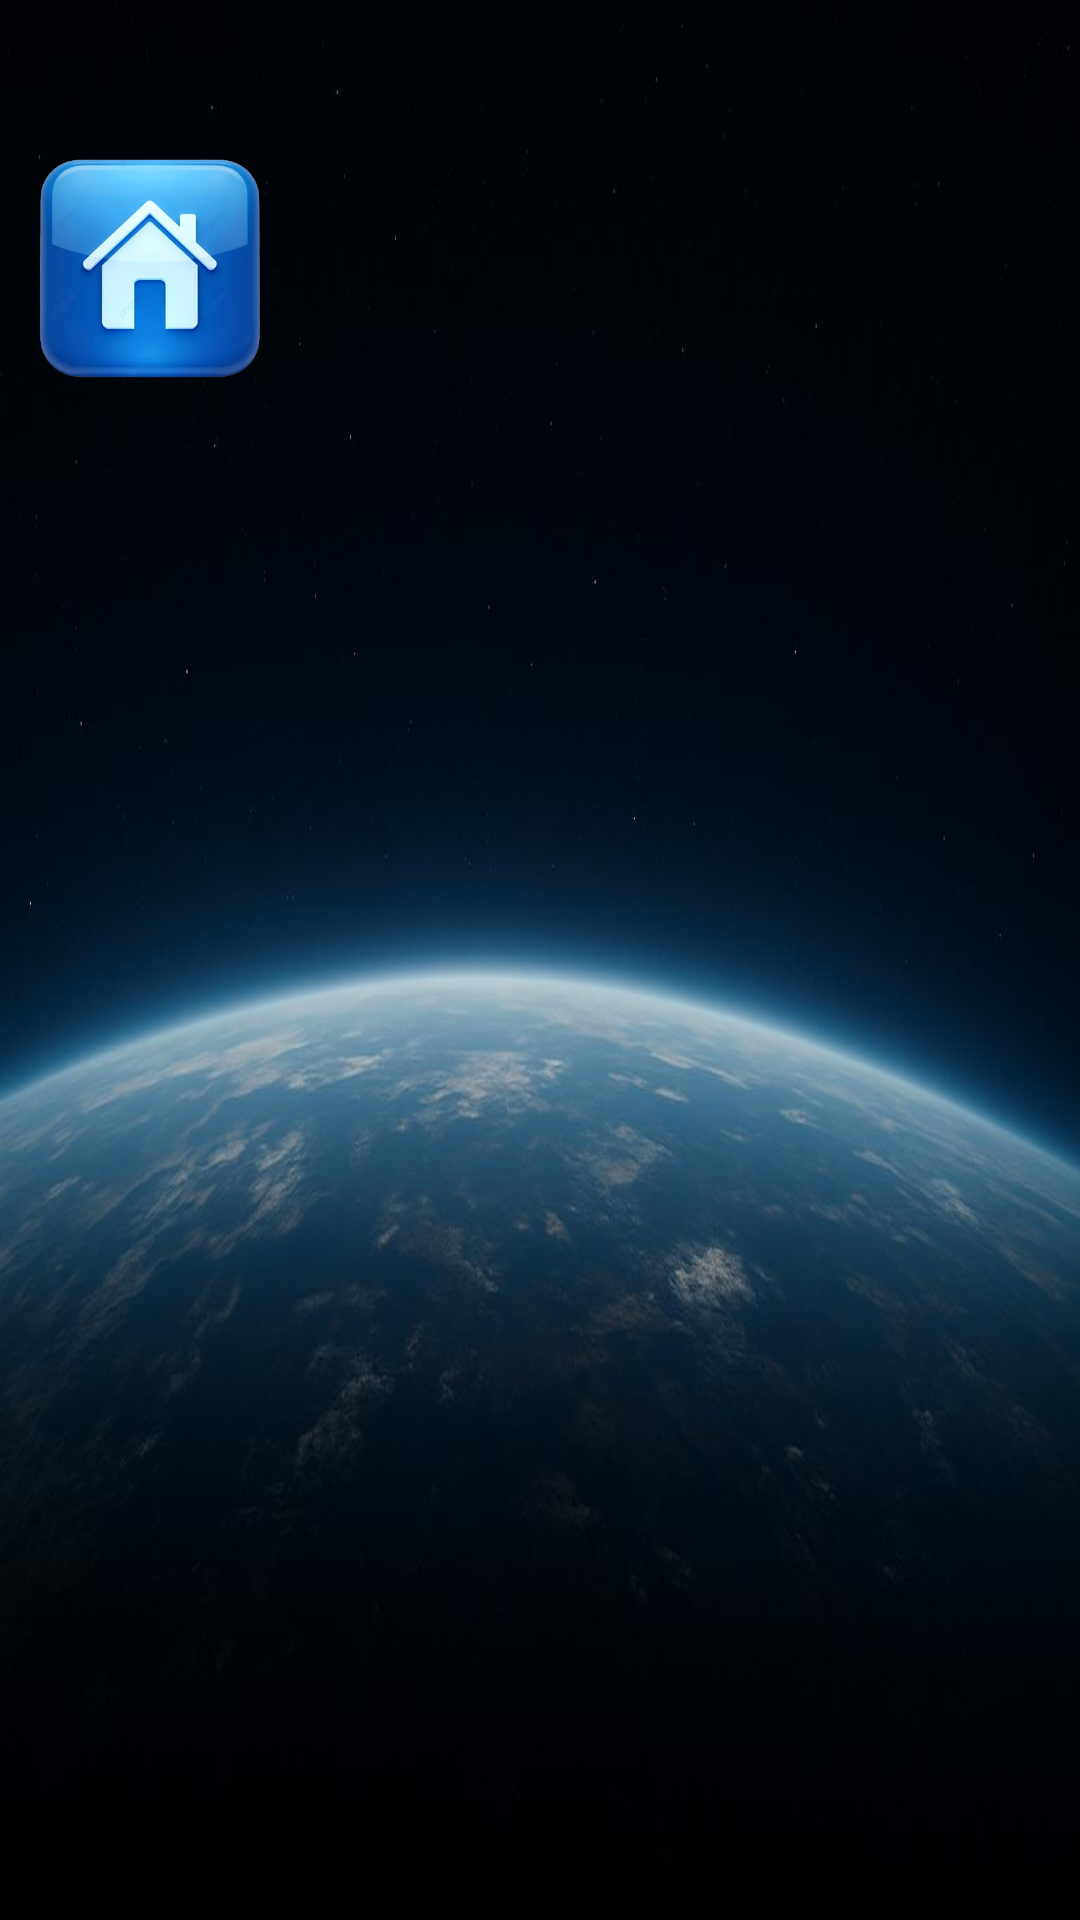

Named icons in this screenshot (1080px x 1920px) and their bounding boxes, [left=x1, top=y1, right=x2, bottom=y2]:
immagine home: [left=39, top=155, right=300, bottom=377]
